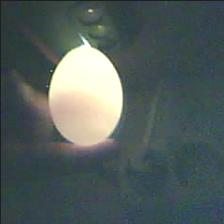infertile: (47, 44, 124, 145)
